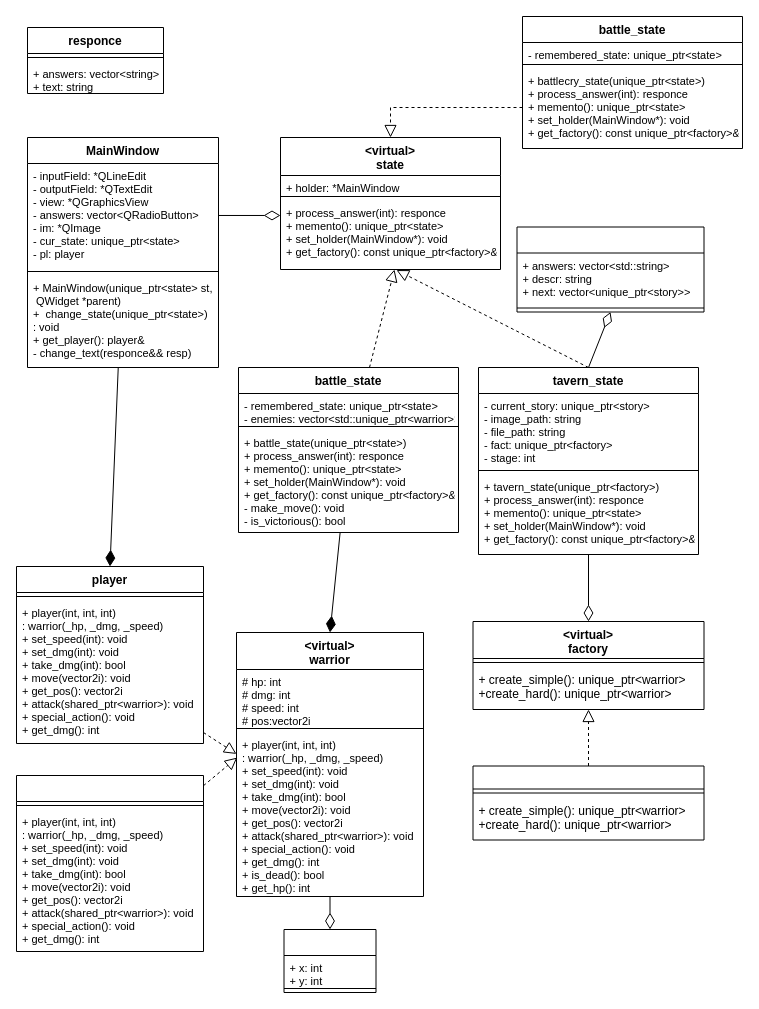
This 759x1009 diagram has some shape labels left out. The box of each missing label's shape, as (x1, y1, x2, y2) in pixels:
human_factory: (472, 765, 704, 840)
story: (516, 226, 704, 312)
tawern_brawler: (16, 774, 204, 952)
vector2i: (283, 928, 376, 992)
